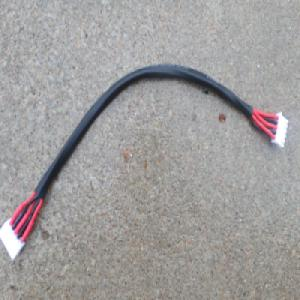Wire: (0, 61, 289, 262)
